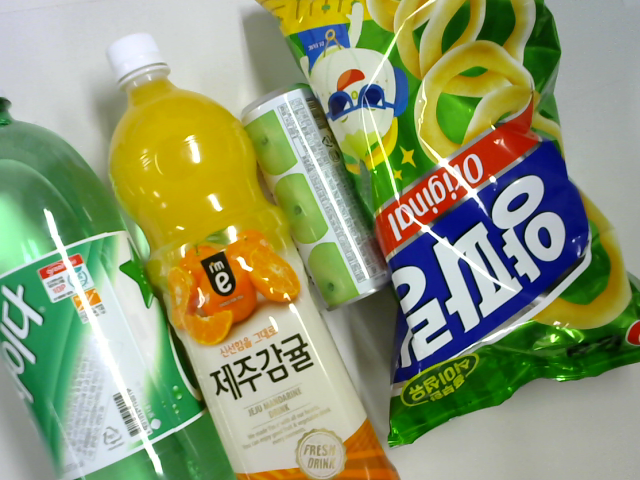Chilseong_Cider_1.5L: (1, 83, 234, 476)
Demisoda_Apple_Can_250ml: (242, 86, 399, 300)
Jeju_Tangerine_1.5L: (91, 33, 397, 480)
Oninon_Ring: (250, 1, 640, 445)
